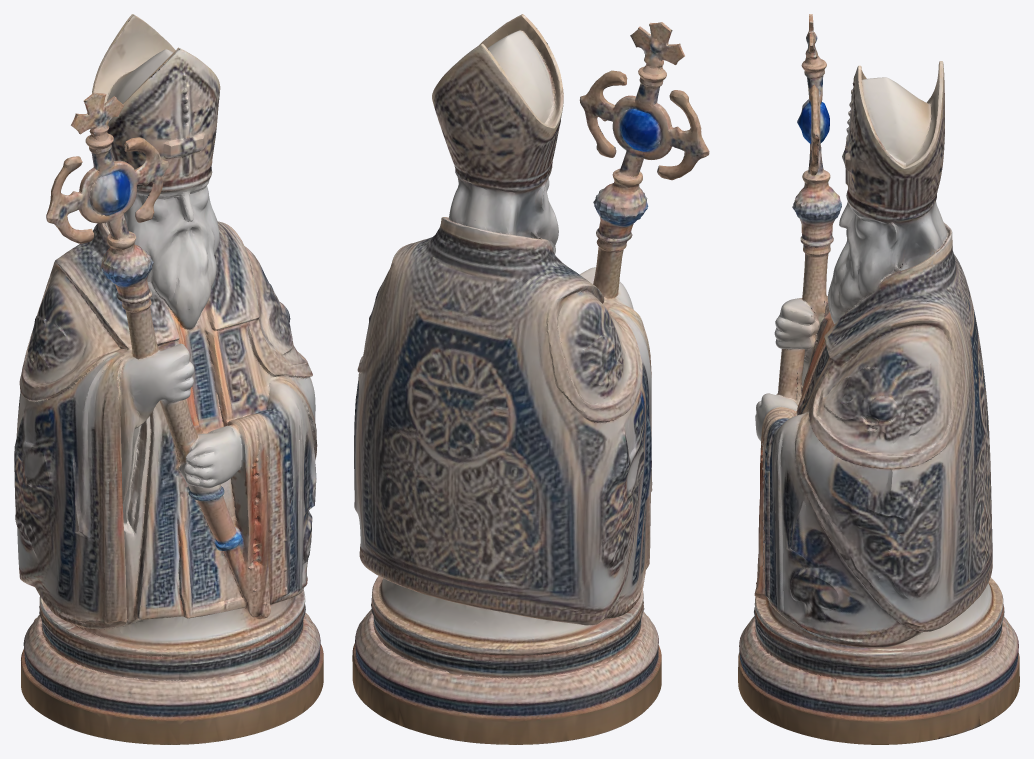
The model's file is bishop.glb.
The picture shows the model from 3 angles, left to right: view 1: azimuth 30°, elevation 25°; view 2: azimuth 150°, elevation 25°; view 3: azimuth 270°, elevation 25°; orthographic projection. The views are drawn at different scales.
Visible parts, largest first — view 1: model; view 2: model; view 3: model.
Boxes of the visible parts, x1,y1,x2,y2 form: model: (14, 14, 323, 744); model: (352, 14, 709, 744); model: (738, 14, 1019, 744).
Bounding box in the file's own units: 0.9046 × 1.9 × 0.783.
1 material, 1 textured.
